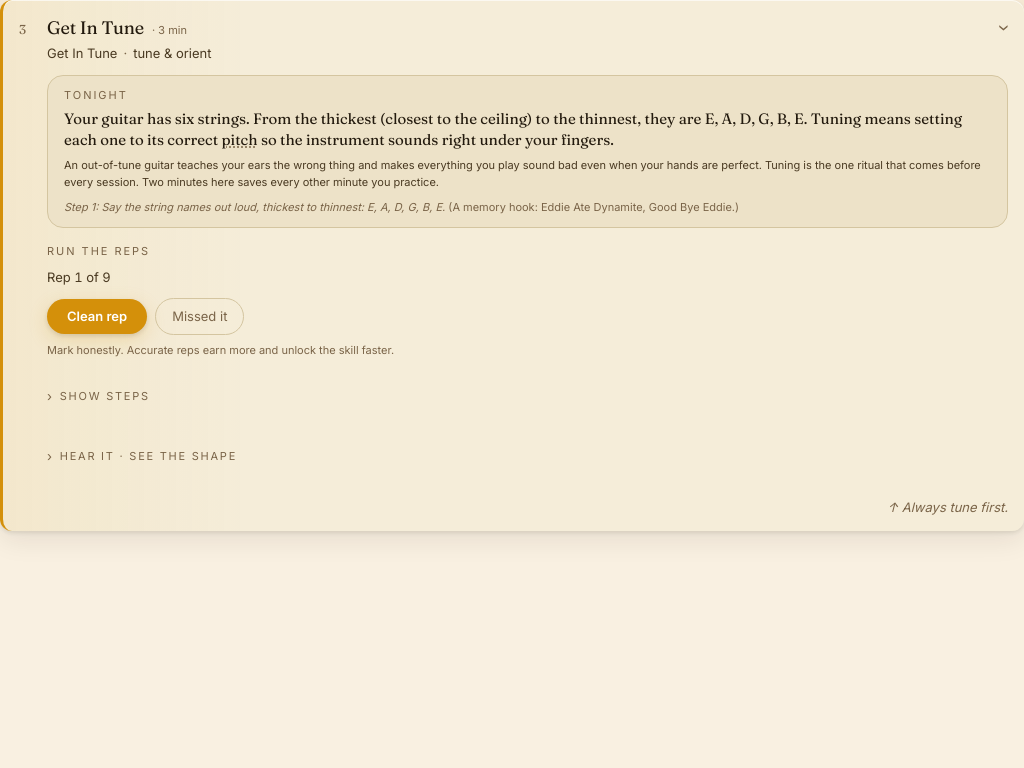
Scenario: ChainDrillSlot — term-linking (Roman-numeral strip + drill-step instructions) › links glossary terms inside drill-step instructions (was raw, un-chippable text)
# Step list is behind the "Show steps" disclosure.
Click the button "› Show steps".
click(98, 396)  # box [47,374,150,418]
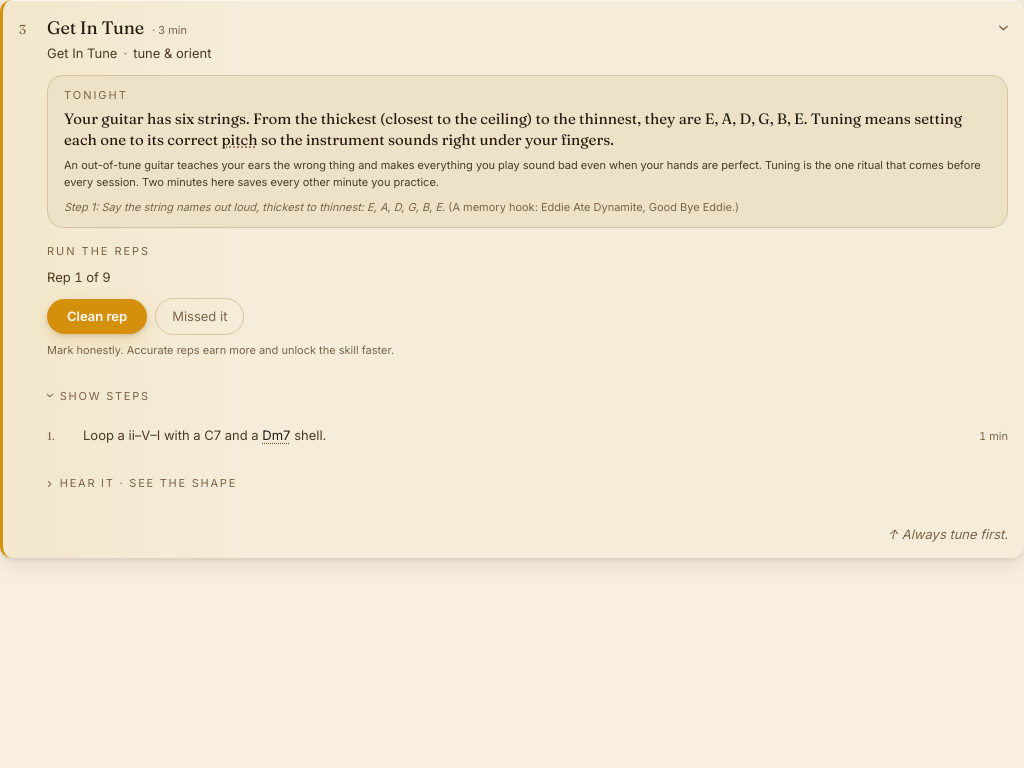
expect the button with aria-label "Explain: Seventh Chord" is shown: met, box [262,428,290,444]
